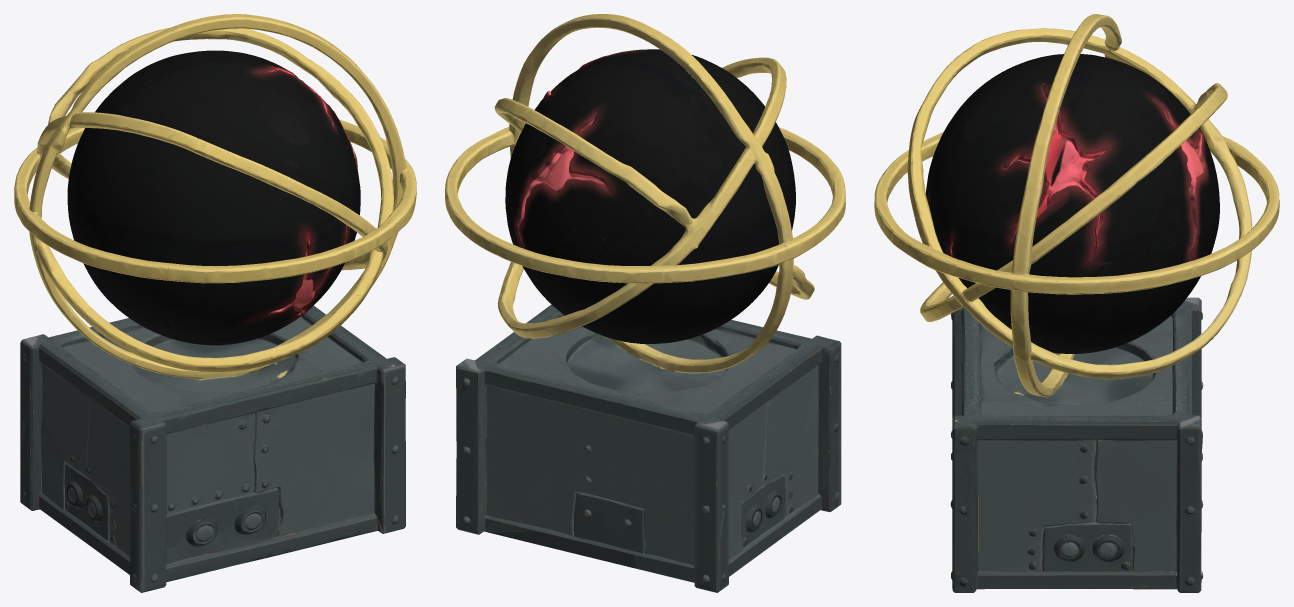
Rendered from omegadevice.glb.
3 views of the same model, side by side, from view 1: azimuth 30°, elevation 25°; view 2: azimuth 150°, elevation 25°; view 3: azimuth 270°, elevation 25° (orthographic).
Size of the model in its own units: 1.41 by 1.9 by 1.39.
Materials: 1 (1 with a texture image).
